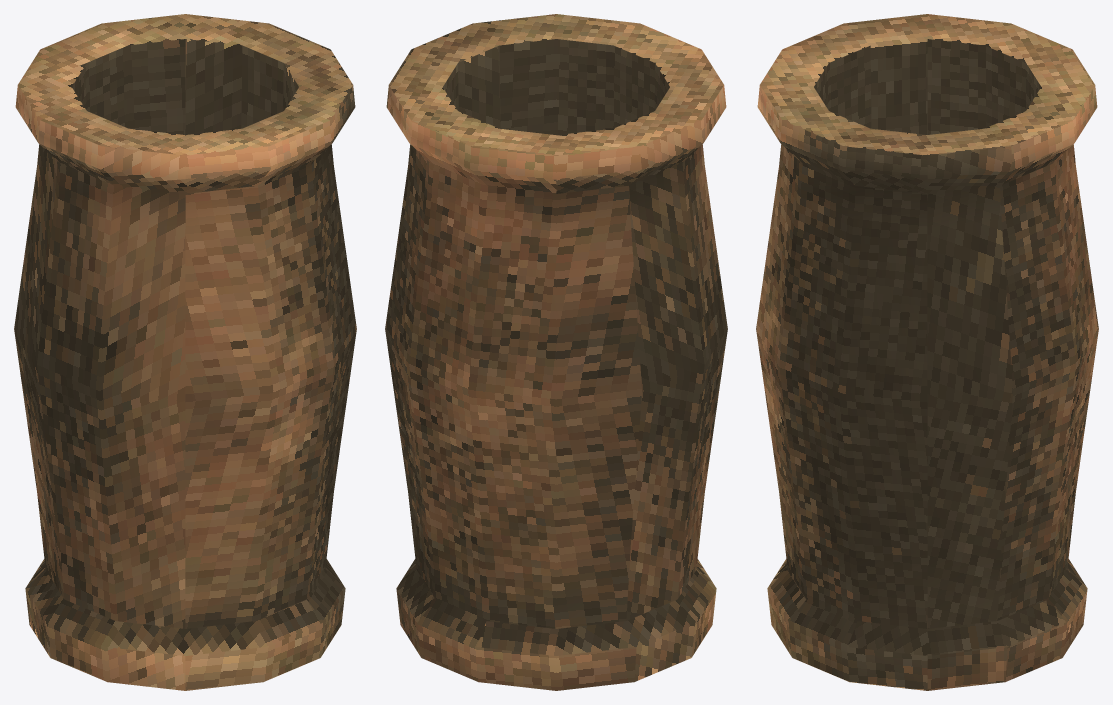
The model's file is Vase_3.gltf.
3 renders of one model, left to right at view 1: azimuth 30°, elevation 25°; view 2: azimuth 150°, elevation 25°; view 3: azimuth 270°, elevation 25°, orthographic.
Parts seen in each view (by area): view 1: Vase_3; view 2: Vase_3; view 3: Vase_3.
Boxes of the visible parts, x1,y1,x2,y2 form: Vase_3: (14,14,356,690); Vase_3: (385,14,727,690); Vase_3: (756,14,1098,690).
Size of the model in its own units: 1.53 by 2.66 by 1.53.
Materials: 1 (1 with a texture image).
